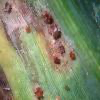Corn rust leaf: (10, 0, 96, 99)
